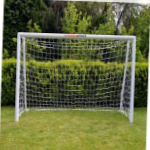goals: (14, 28, 140, 127)
